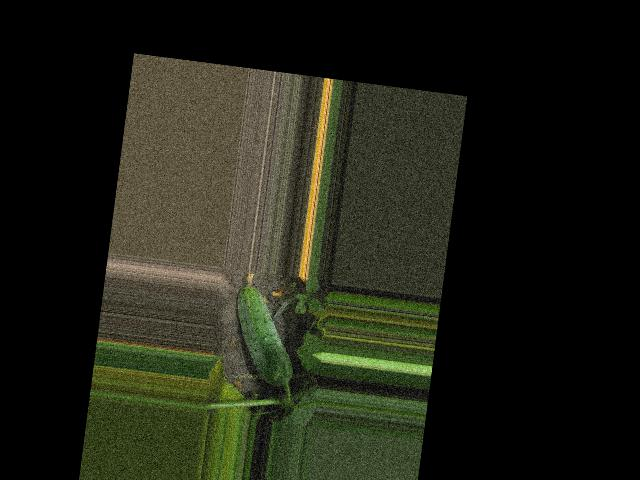cucumber: (226, 270, 304, 387)
